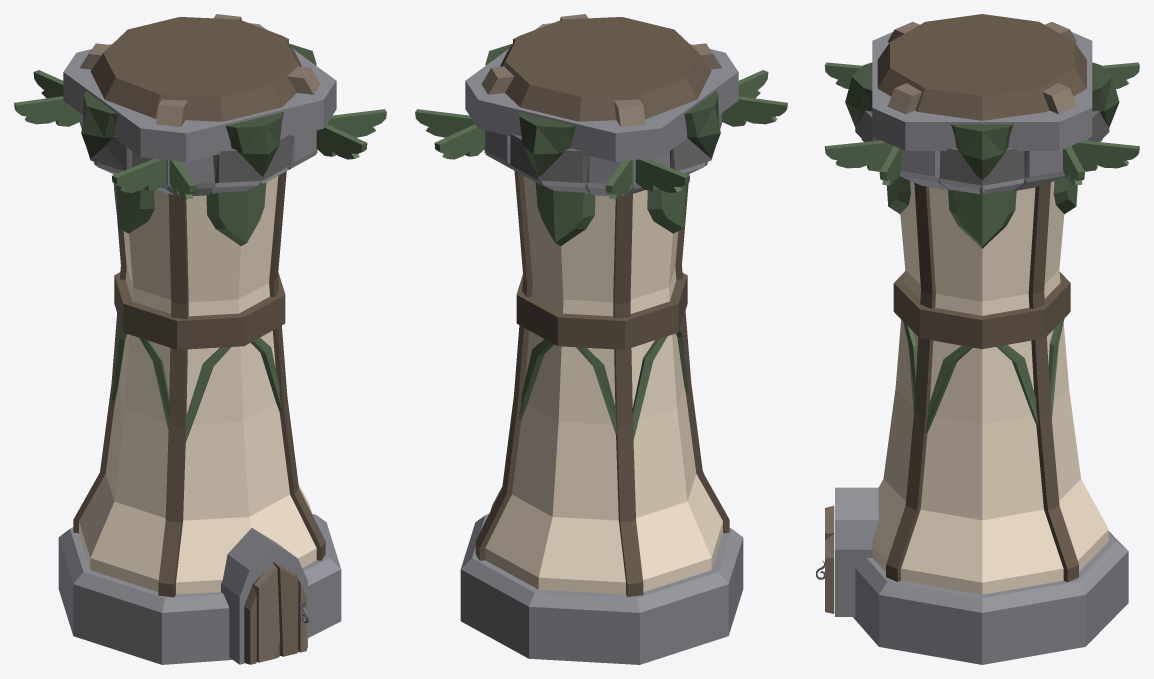
The model's file is Ballista_tower_LVL_2_Body.fbx.
3 views of the same model, side by side, from view 1: azimuth 30°, elevation 25°; view 2: azimuth 150°, elevation 25°; view 3: azimuth 270°, elevation 25° (orthographic).
Visible parts, largest first — view 1: Ballista_tower_LVL_2; view 2: Ballista_tower_LVL_2; view 3: Ballista_tower_LVL_2.
Part boxes in pixels (x1=…): Ballista_tower_LVL_2: x1=14, y1=14, x2=386, y2=664; Ballista_tower_LVL_2: x1=415, y1=14, x2=787, y2=664; Ballista_tower_LVL_2: x1=816, y1=14, x2=1139, y2=664.
Size of the model in its own units: 611 by 1172 by 628.
